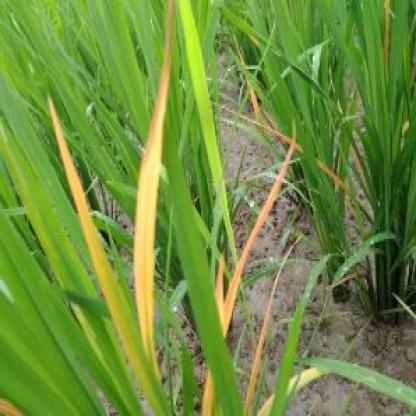Tungro: (134, 5, 177, 320)
